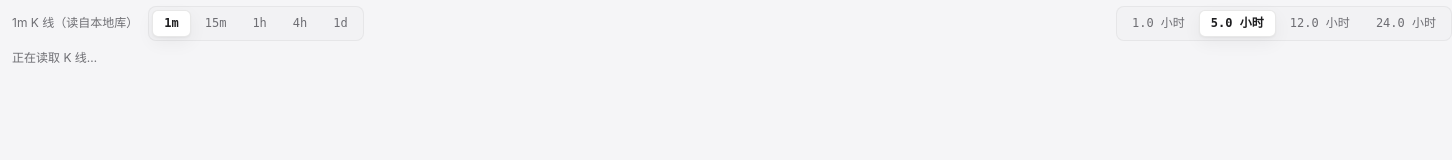
Test: PriceChart 周期切换 › 未启用派生时明说，而不是显示 0 个桶（AC-22）
The image size is (1452, 160).
Click the button titled "切换到 4h" at point(300, 23), box [281, 10, 319, 37]
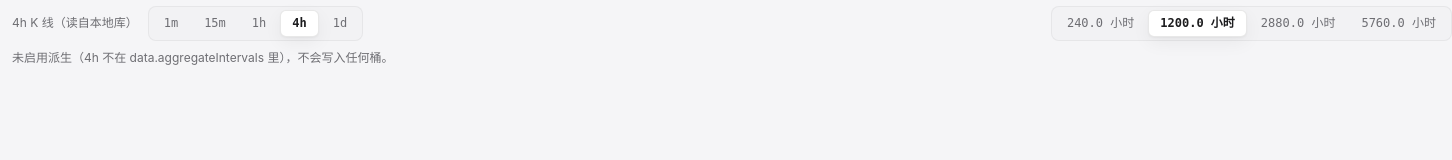
expect the text "未启用派生" is shown: met, box [12, 50, 393, 65]
expect the text "data.aggregateIntervals" is shown: met, box [12, 50, 393, 65]
